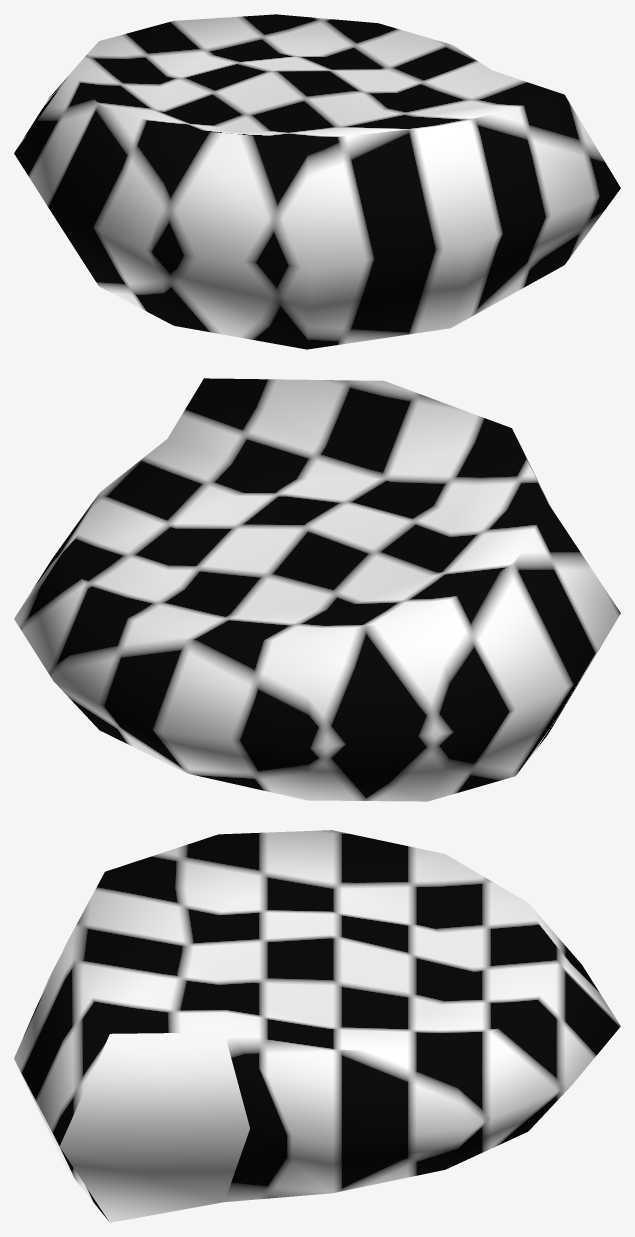
Rendered from initqu20.dae.
3 views of the same model, one above another, from view 1: azimuth 30°, elevation 25°; view 2: azimuth 150°, elevation 25°; view 3: azimuth 270°, elevation 25° (orthographic). The views are drawn at different scales.
Parts seen in each view (by area): view 1: item; view 2: item; view 3: item.
Part boxes in pixels (x1,y1,x2,y2): item: (14,14,620,349); item: (14,378,620,801); item: (14,830,620,1222).
Bounding box in the file's own units: 1.41 × 1.49 × 0.6272.
1 material, 1 textured.
